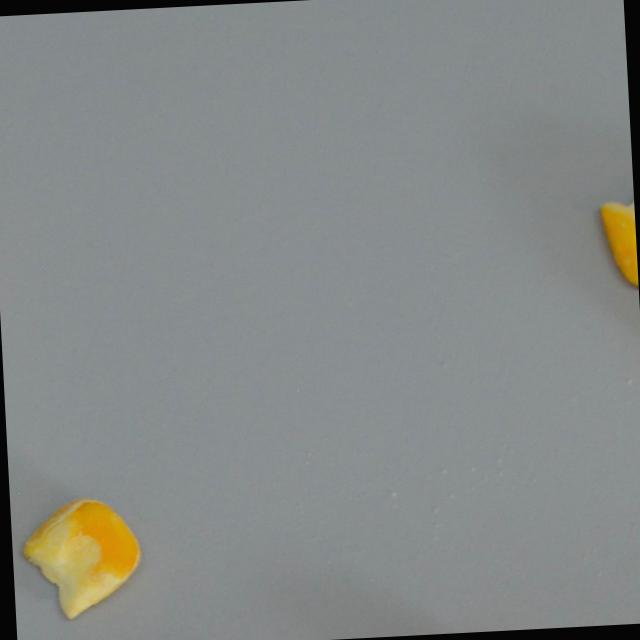pelicula: (15, 491, 147, 627), (595, 179, 639, 294)
